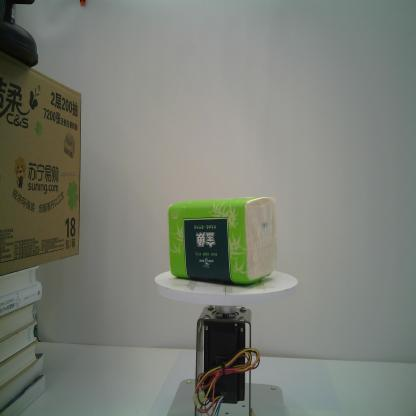Tissue: (167, 194, 278, 288)
